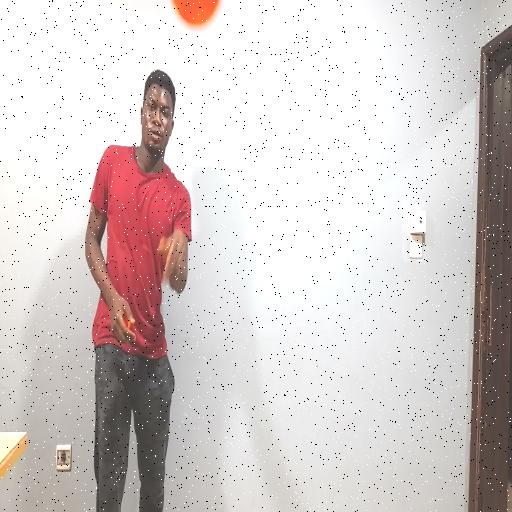plastic-ball: (168, 0, 226, 37)
